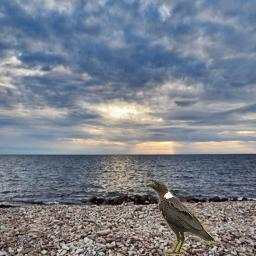Crow: (144, 178, 216, 255)
